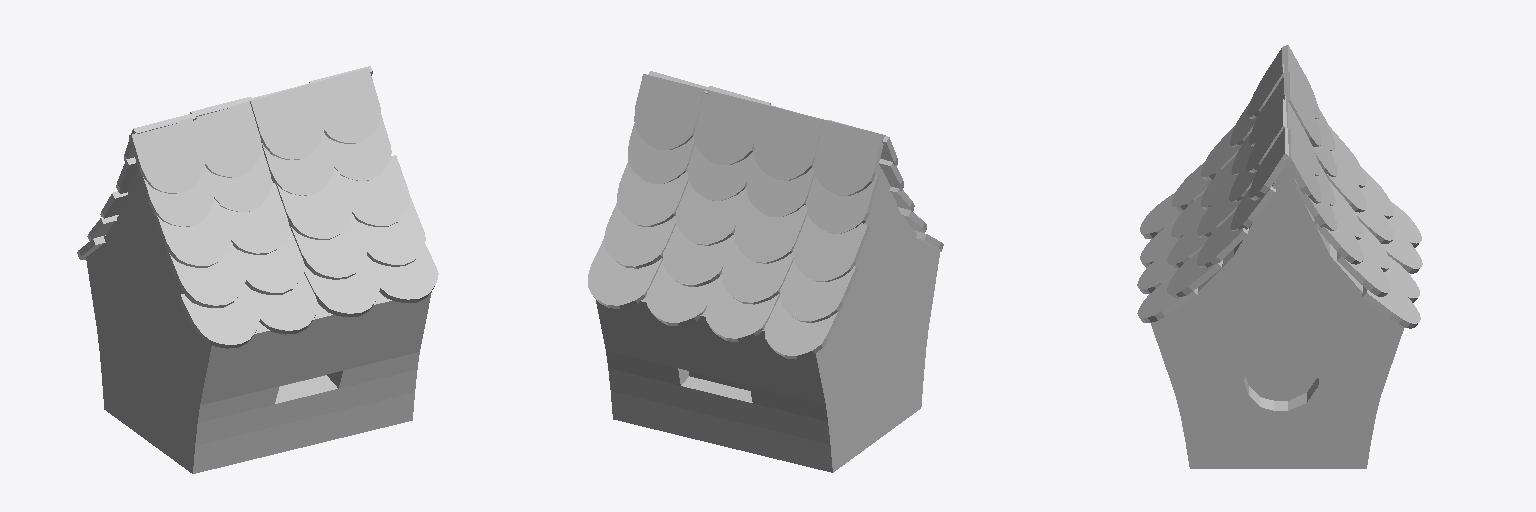
File: BirdHouse.obj
3 renders of one model, left to right at view 1: azimuth 30°, elevation 25°; view 2: azimuth 150°, elevation 25°; view 3: azimuth 270°, elevation 25°, orthographic.
Visible parts, largest first — view 1: group[number redacted], group[number redacted], group[number redacted], group[number redacted], group[number redacted], group[number redacted], group[number redacted], group[number redacted], group[number redacted], group[number redacted], group[number redacted], group[number redacted] (+9 smaller); view 2: group[number redacted], group[number redacted], group[number redacted], group[number redacted], group[number redacted], group[number redacted], group[number redacted], group[number redacted], group[number redacted], group[number redacted], group[number redacted], group[number redacted] (+9 smaller); view 3: group[number redacted], group[number redacted], group[number redacted], group[number redacted], group[number redacted], group[number redacted], group[number redacted], group[number redacted], group[number redacted], group[number redacted], group[number redacted], group[number redacted] (+24 smaller).
Boxes of the visible parts, x1=… form: group[number redacted]: x1=86, y1=169, x2=431, y2=473; group[number redacted]: x1=129, y1=118, x2=204, y2=193; group[number redacted]: x1=250, y1=84, x2=323, y2=159; group[number redacted]: x1=312, y1=67, x2=380, y2=143; group[number redacted]: x1=193, y1=101, x2=261, y2=177; group[number redacted]: x1=276, y1=168, x2=351, y2=239; group[number redacted]: x1=340, y1=155, x2=410, y2=226; group[number redacted]: x1=152, y1=199, x2=230, y2=267; group[number redacted]: x1=166, y1=241, x2=245, y2=307; group[number redacted]: x1=178, y1=286, x2=259, y2=348; group[number redacted]: x1=220, y1=183, x2=288, y2=254; group[number redacted]: x1=289, y1=214, x2=366, y2=279; group[number redacted]: x1=596, y1=158, x2=939, y2=472; group[number redacted]: x1=813, y1=120, x2=885, y2=195; group[number redacted]: x1=754, y1=104, x2=823, y2=180; group[number redacted]: x1=634, y1=74, x2=704, y2=149; group[number redacted]: x1=694, y1=89, x2=761, y2=164; group[number redacted]: x1=793, y1=214, x2=869, y2=281; group[number redacted]: x1=735, y1=193, x2=807, y2=263; group[number redacted]: x1=676, y1=181, x2=746, y2=245; group[number redacted]: x1=617, y1=160, x2=688, y2=226; group[number redacted]: x1=780, y1=260, x2=857, y2=322; group[number redacted]: x1=604, y1=202, x2=675, y2=268; group[number redacted]: x1=588, y1=239, x2=662, y2=308; group[number redacted]: x1=1151, y1=164, x2=1404, y2=468; group[number redacted]: x1=1362, y1=281, x2=1420, y2=328; group[number redacted]: x1=1249, y1=128, x2=1288, y2=200; group[number redacted]: x1=1197, y1=211, x2=1248, y2=267; group[number redacted]: x1=1284, y1=128, x2=1321, y2=203; group[number redacted]: x1=1167, y1=250, x2=1222, y2=297; group[number redacted]: x1=1137, y1=278, x2=1197, y2=322; group[number redacted]: x1=1337, y1=247, x2=1390, y2=296; group[number redacted]: x1=1284, y1=72, x2=1321, y2=146; group[number redacted]: x1=1247, y1=99, x2=1287, y2=172; group[number redacted]: x1=1314, y1=207, x2=1363, y2=264; group[number redacted]: x1=1197, y1=181, x2=1241, y2=237.
Bounding box in the file's own units: 0.48 × 0.5922 × 0.4828.